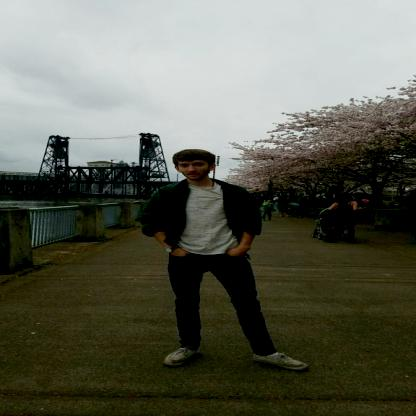Someiyoshino: (231, 82, 412, 186)
